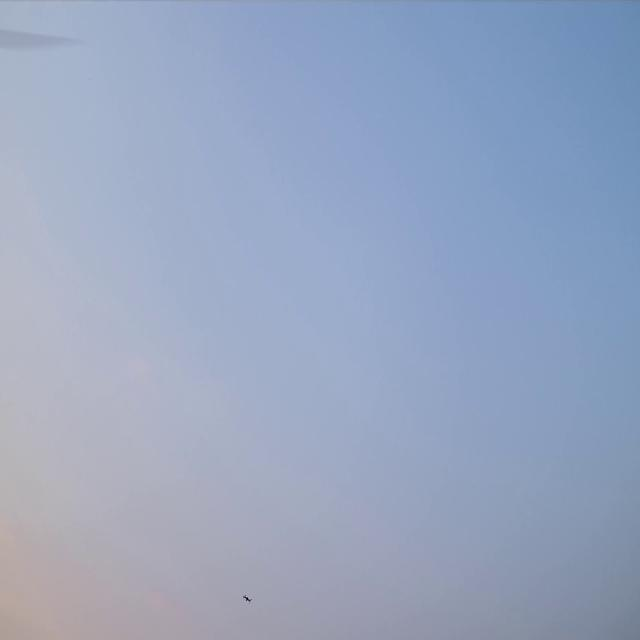UAV: (243, 596, 250, 601)
